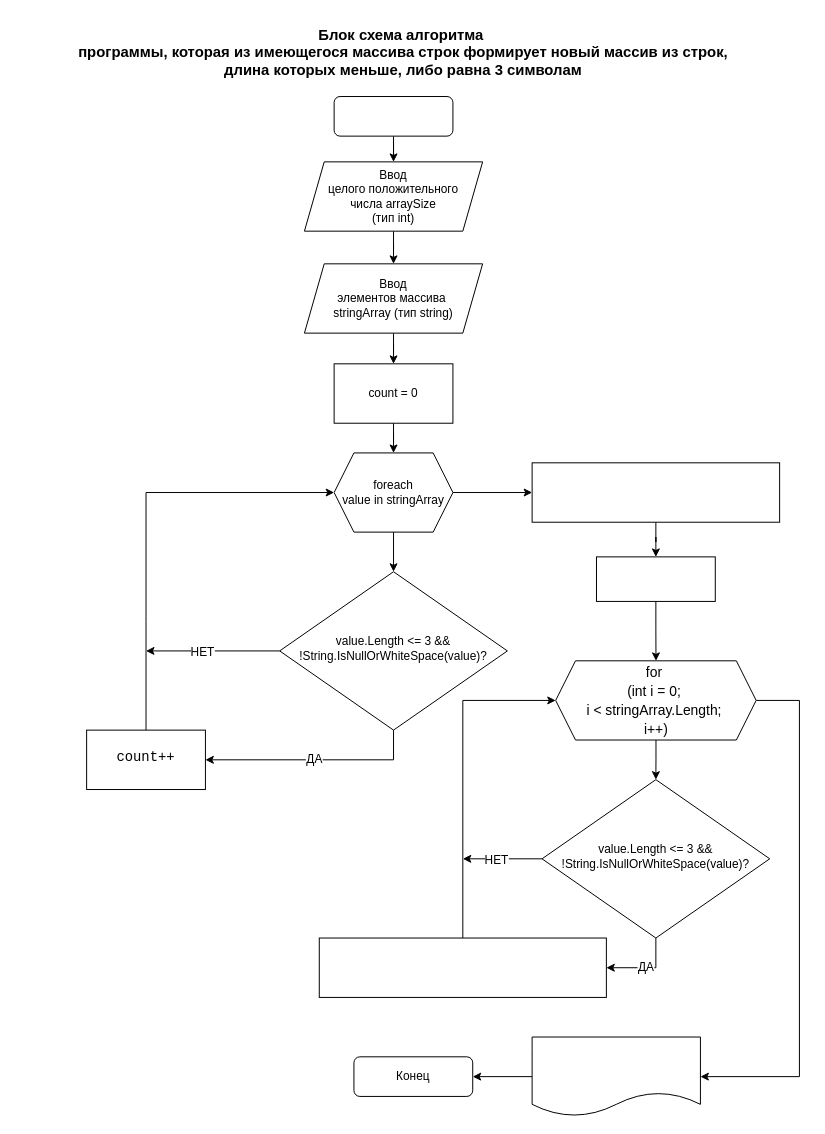
Some shapes in this 825 by 1134 pixel diagram are drawn without their labels. The shapes that lost their labels are listed below. From the top down, each one's centre as x and y in pixels, then its label:
the point at 393,116: Начало
the point at 655,492: Создаём новый одномерный массив newStringArray[count]
the point at 655,578: j = 0
the point at 462,967: newStringArray[ j ] = string Array [ i ] j++
the point at 615,1076: Вывод элементов массивов string Array и new StringArray
